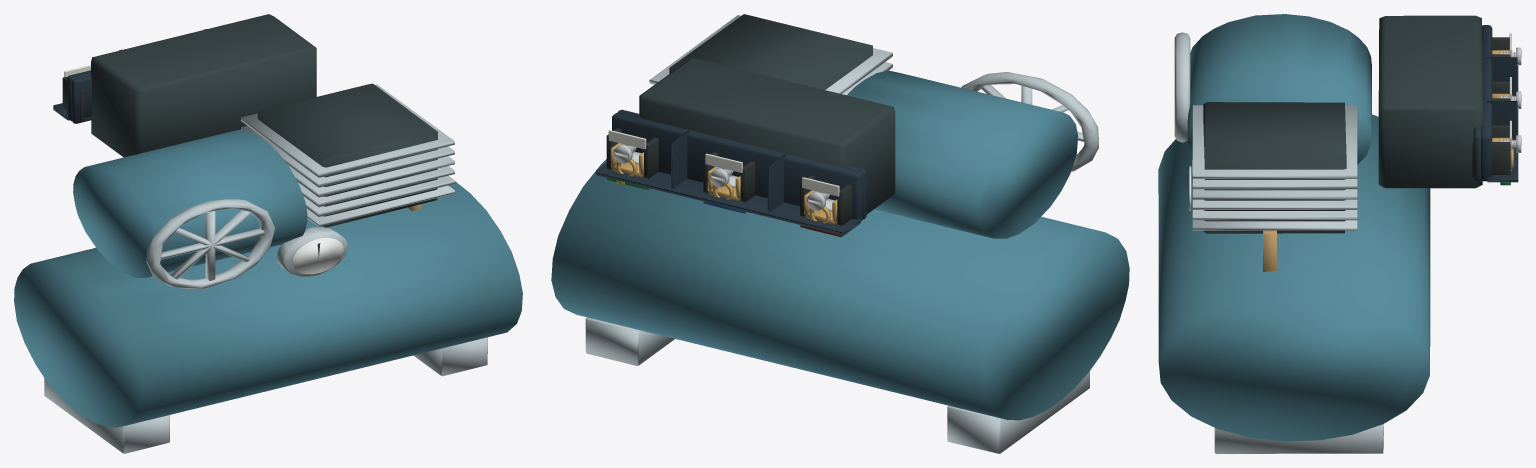
Rendered from motor_compressor.low.glb.
3 views of the same model, side by side, from view 1: azimuth 30°, elevation 25°; view 2: azimuth 150°, elevation 25°; view 3: azimuth 270°, elevation 25° (orthographic). The views are drawn at different scales.
Visible parts, largest first — view 1: part:body · Cast motor blue, part:body · Machinery thermoplastic, part:body · Machined steel, motion:compressor-drive · Machined steel, part:mounting · Machined steel, Pressure dial, part:terminals · Original a463fd81; view 2: part:body · Cast motor blue, part:body · Machinery thermoplastic, part:terminals · Original a463fd81, part:mounting · Machined steel, motion:compressor-drive · Machined steel, part:body · Machined steel, detail:terminal-clamp:N · Detail moulded engineering polymer, detail:terminal-clamp:PE · Detail moulded engineering polyme, detail:terminal-clamp:L · Detail moulded engineering polymer; view 3: part:body · Cast motor blue, part:body · Machinery thermoplastic, part:body · Machined steel, part:terminals · Original a463fd81, part:mounting · Machined steel, motion:compressor-drive · Machined steel, detail:terminal-clamp:PE · Detail moulded engineering polyme, Pressure pipe.
Part boxes in pixels (left/top/right/bottom): part:body · Cast motor blue: left=14, top=129, right=522, bottom=427; part:body · Machinery thermoplastic: left=91, top=14, right=437, bottom=257; part:body · Machined steel: left=240, top=84, right=454, bottom=276; motion:compressor-drive · Machined steel: left=146, top=198, right=274, bottom=288; part:mounting · Machined steel: left=44, top=337, right=487, bottom=453; Pressure dial: left=291, top=237, right=343, bottom=274; part:terminals · Original a463fd81: left=53, top=29, right=206, bottom=123; part:body · Cast motor blue: left=551, top=70, right=1129, bottom=420; part:body · Machinery thermoplastic: left=639, top=14, right=895, bottom=214; part:terminals · Original a463fd81: left=596, top=109, right=866, bottom=235; part:mounting · Machined steel: left=585, top=317, right=1089, bottom=453; motion:compressor-drive · Machined steel: left=961, top=72, right=1098, bottom=171; part:body · Machined steel: left=649, top=15, right=892, bottom=95; detail:terminal-clamp:N · Detail moulded engineering polymer: left=703, top=152, right=755, bottom=202; detail:terminal-clamp:PE · Detail moulded engineering polyme: left=606, top=128, right=658, bottom=178; detail:terminal-clamp:L · Detail moulded engineering polymer: left=800, top=175, right=851, bottom=226; part:body · Cast motor blue: left=1158, top=14, right=1430, bottom=441; part:body · Machinery thermoplastic: left=1187, top=15, right=1482, bottom=233; part:body · Machined steel: left=1192, top=105, right=1357, bottom=230; part:terminals · Original a463fd81: left=1473, top=25, right=1518, bottom=182; part:mounting · Machined steel: left=1214, top=424, right=1383, bottom=453; motion:compressor-drive · Machined steel: left=1174, top=32, right=1190, bottom=142; detail:terminal-clamp:PE · Detail moulded engineering polyme: left=1472, top=125, right=1511, bottom=177; Pressure pipe: left=1263, top=230, right=1276, bottom=271.
Bounding box in the file's own units: 1.35 × 0.9614 × 1.05.
